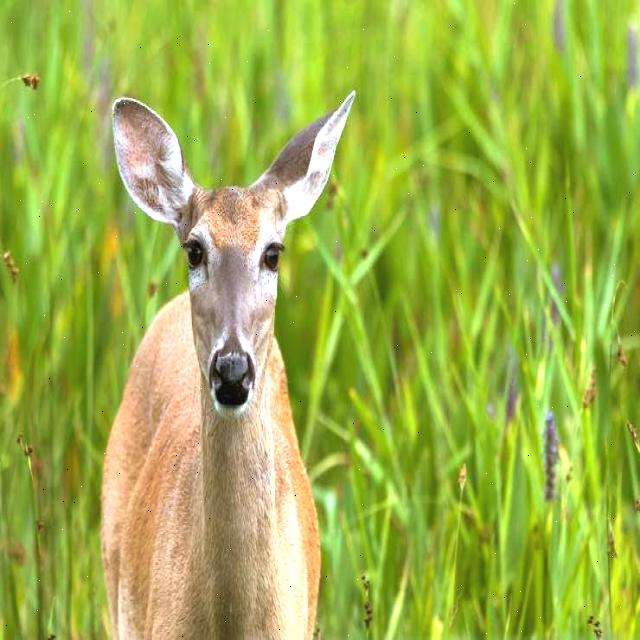deer: (87, 88, 370, 437)
